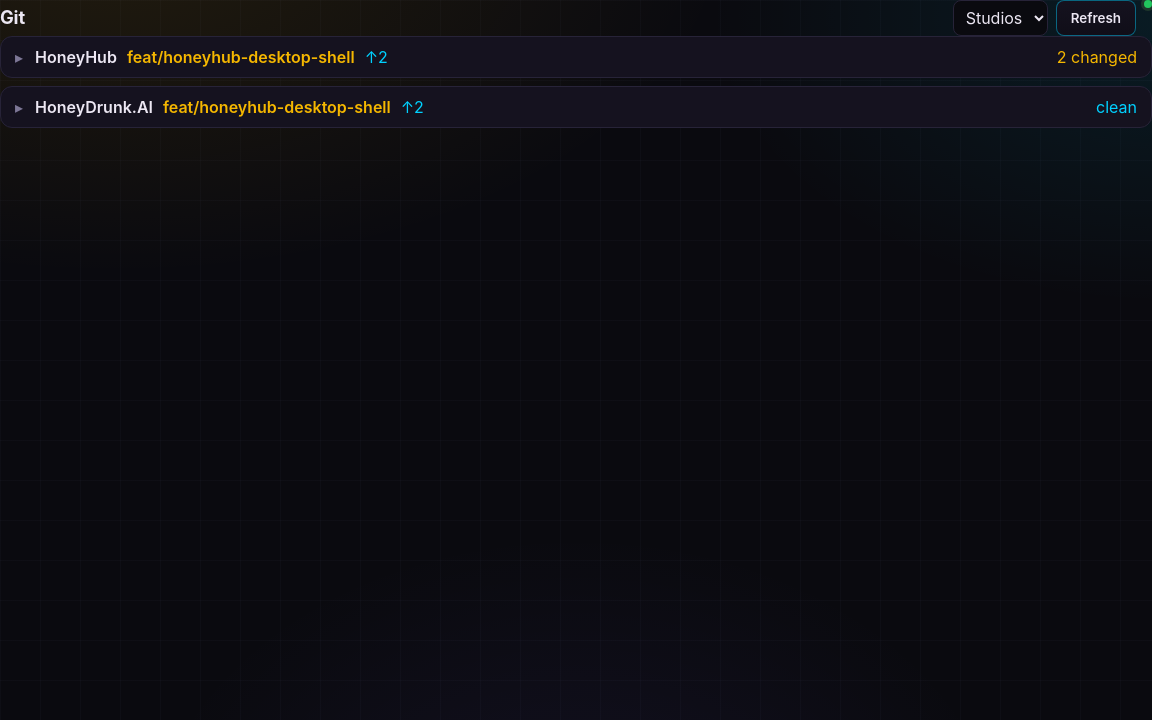
Test: GitView › deletes a branch (confirmation-gated)
Click the button "▸ HoneyHub feat/honeyhub-desktop-shell ↑2 2 changed". click: (76, 57)
box: [1,37,1151,77]
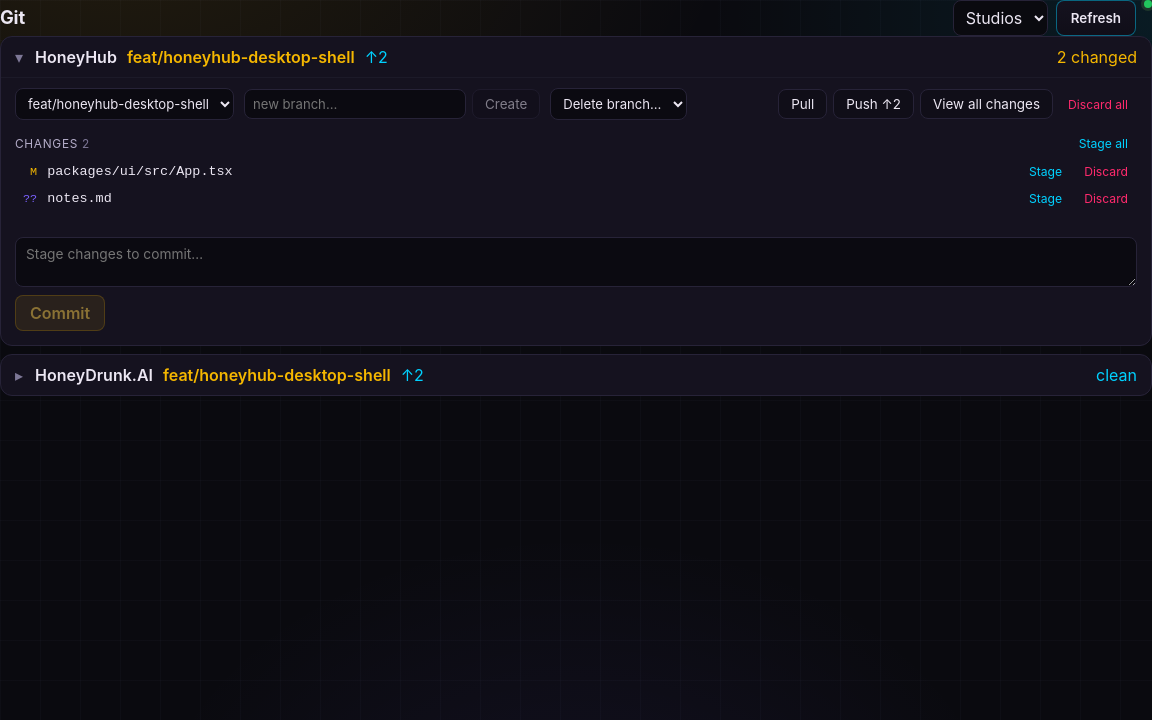
Check: the text "packages/ui/src/App.tsx" is shown, box [47,164,233,179]
Select "main" in the dropdown named "Delete branch". click: (619, 104)
box: [550,88,687,120]
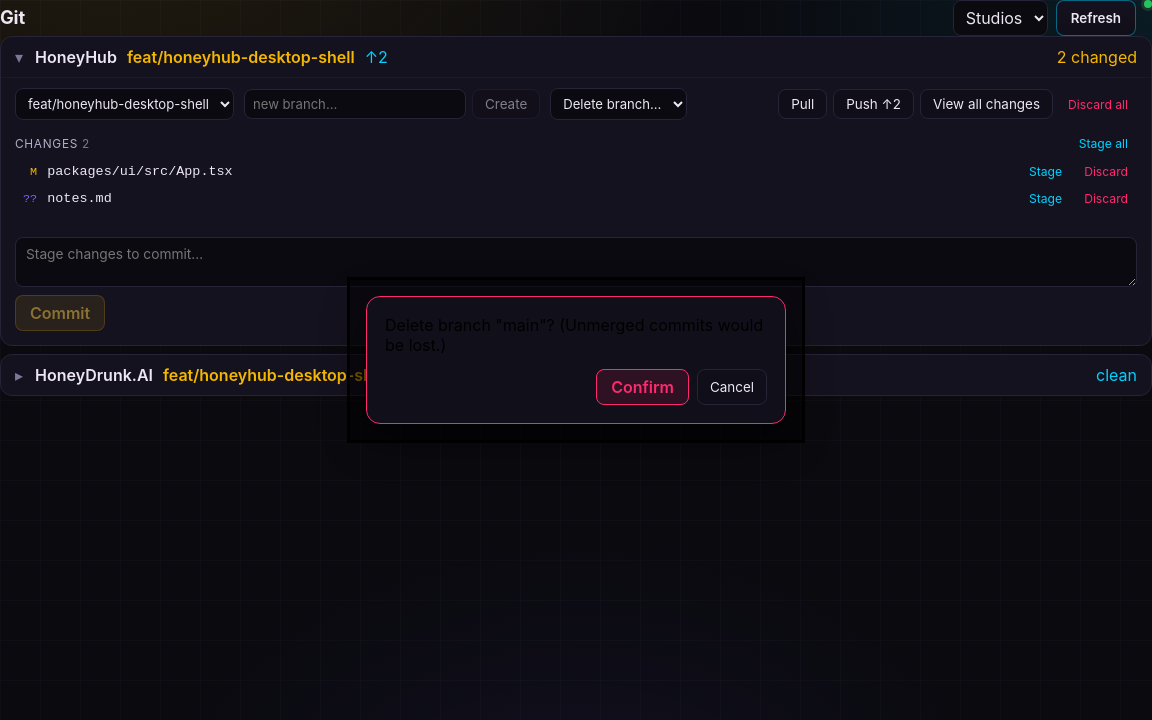
Check: the dialog named "Confirm action" is shown, box [347,277,805,443]
Click the button "Confirm". click: (643, 387)
box: [596,369,689,405]
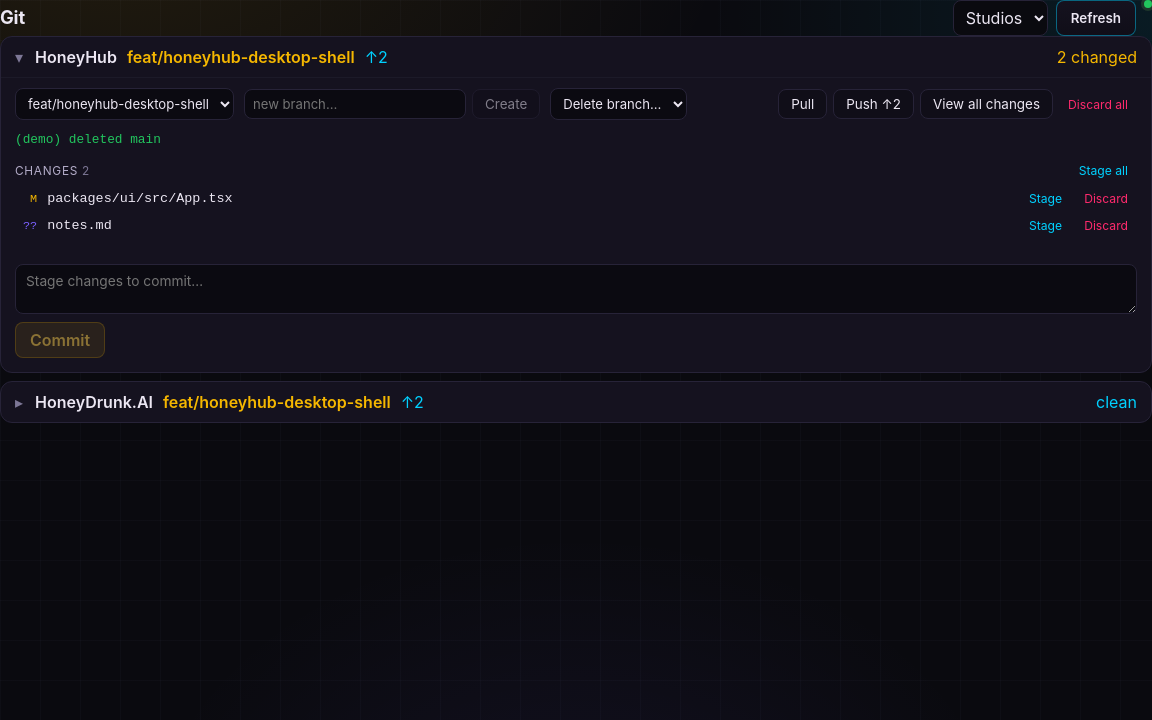
Check: the text "(demo) deleted main" is shown, box [15,132,161,147]
